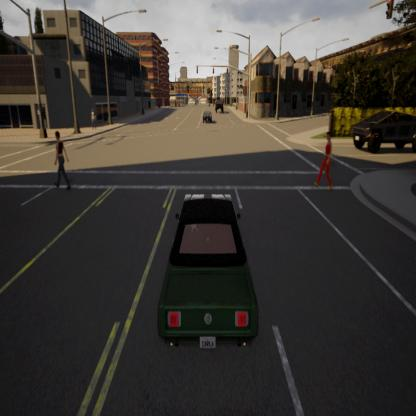Cars: (159, 193, 260, 357), (349, 105, 416, 158), (214, 97, 224, 117), (202, 108, 213, 125)
Pedestrian: (51, 124, 74, 194), (314, 130, 334, 192)
